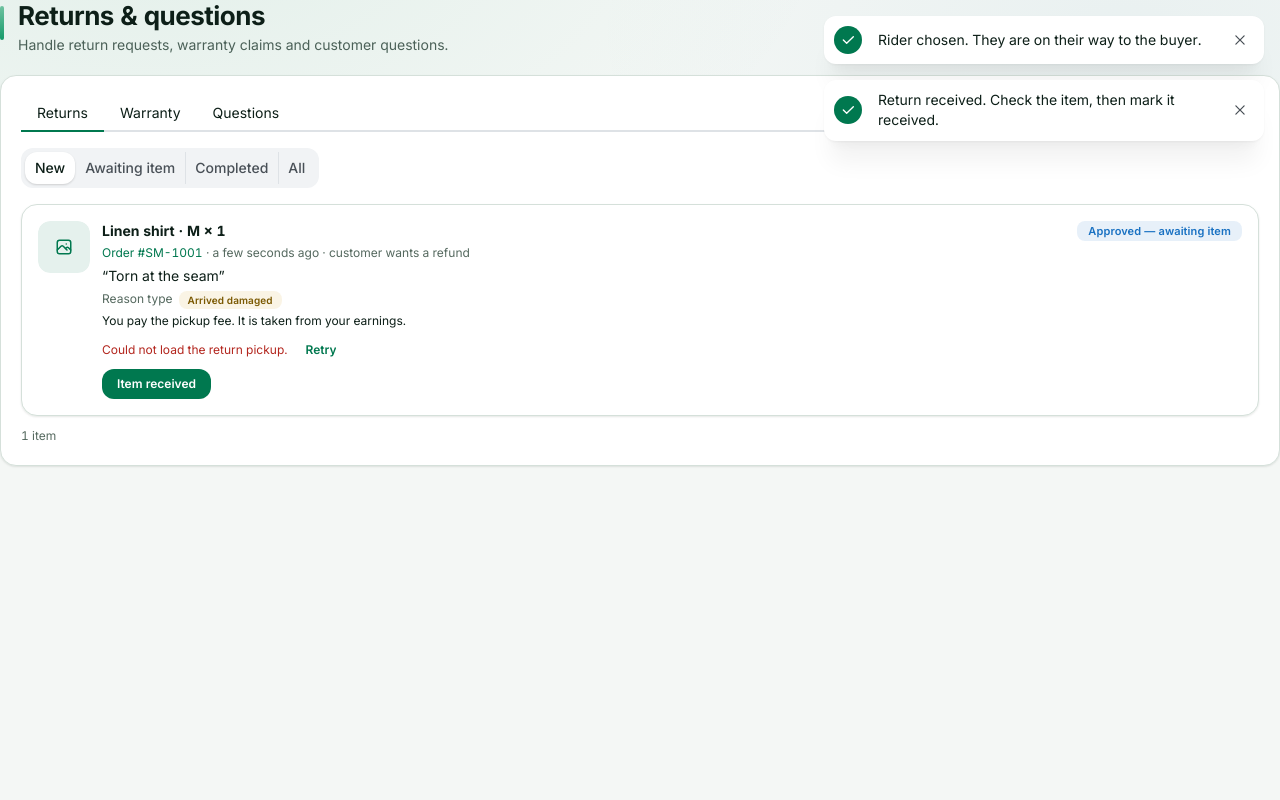
Test: return pickup by rider (Seller Center) › handles 409 return.pickup_not_received: says why and gates the button
expect the text "Could not load the return pickup." is shown: met, box [102,342,288,359]
Step 1. Click the button "Item received" → (156, 384), box [102,369,211,399]
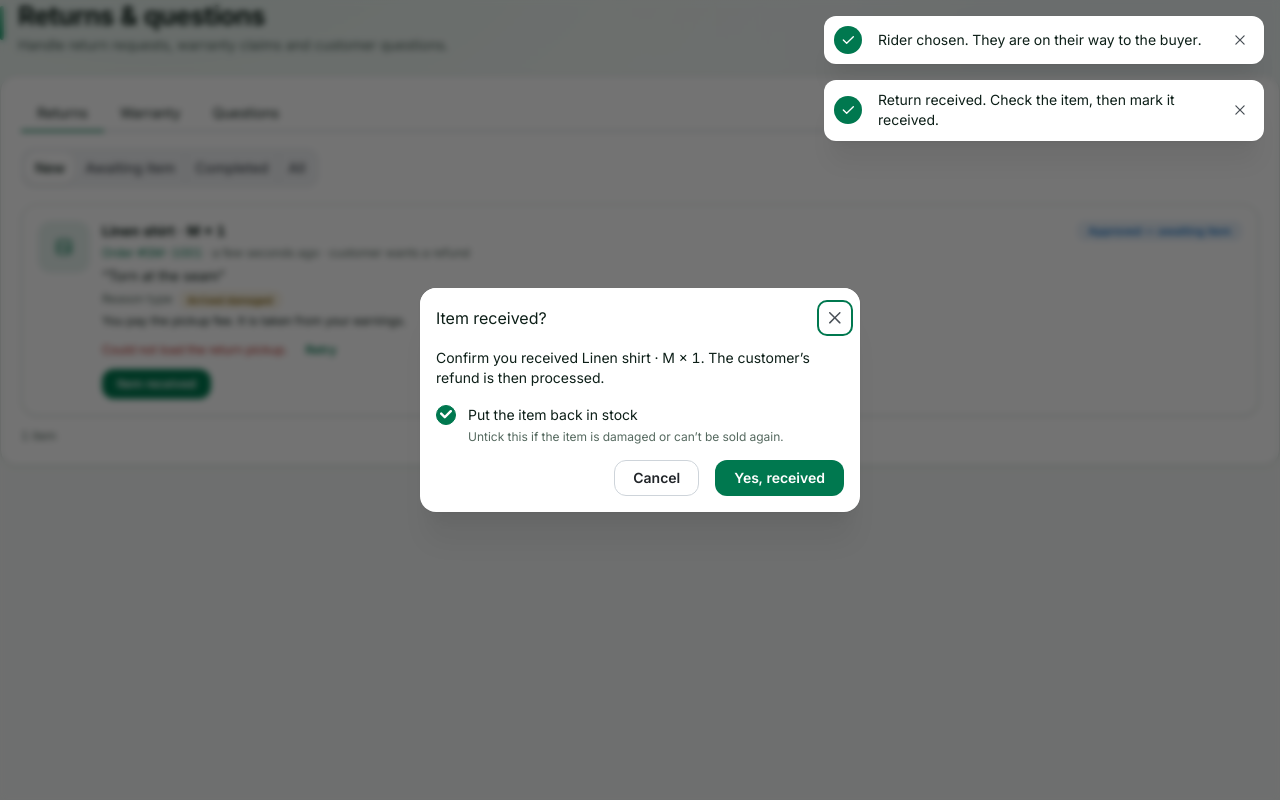
Step 2. Click the button "Yes, received" → (780, 478), box [715,460,844,496]
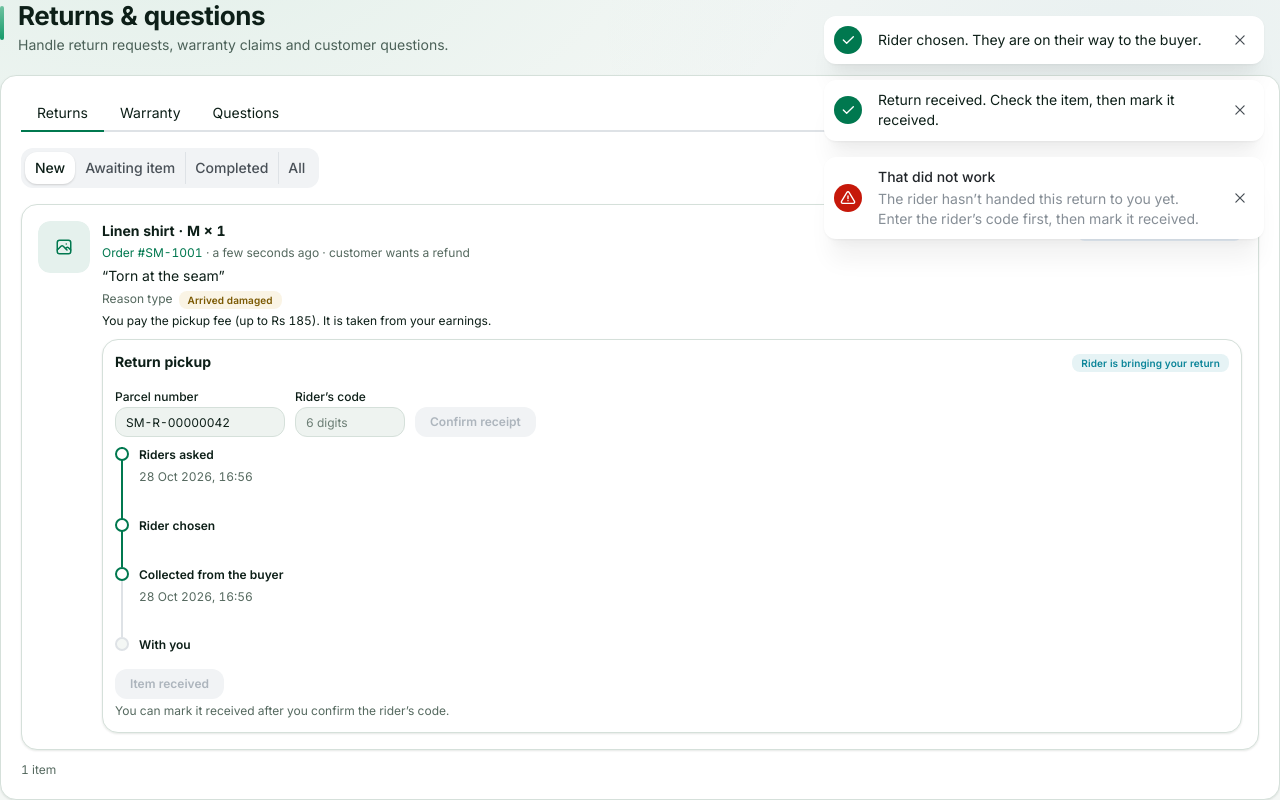
expect the text "You can mark it received after you confirm the rider’s code." is shown: met, box [115,703,449,718]
expect the button "Item received" is disabled: met, box [115,669,224,699]
